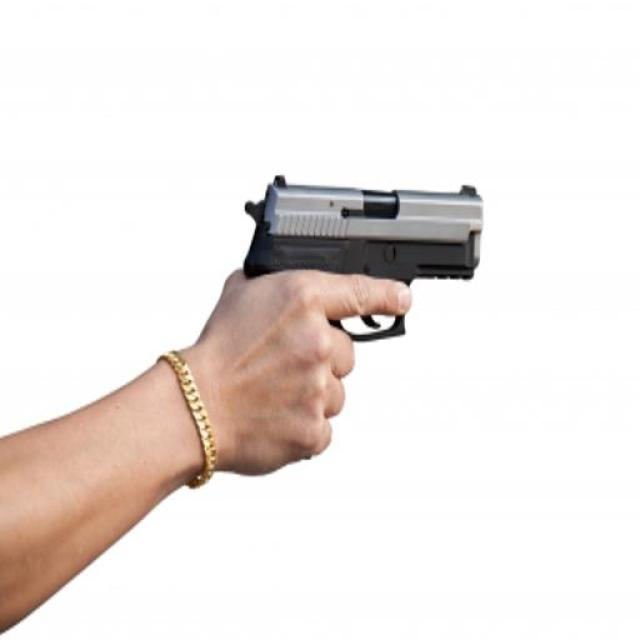pistol: (240, 165, 482, 485)
